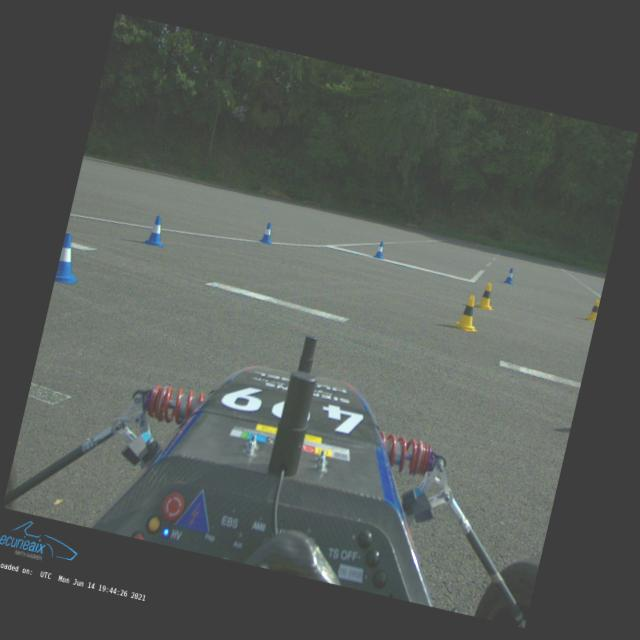blue_cone: (54, 232, 88, 286), (144, 214, 170, 248), (258, 222, 276, 244), (502, 266, 516, 285), (373, 240, 387, 259)
yellow_cone: (451, 292, 484, 332), (476, 281, 498, 311), (584, 297, 600, 322)
